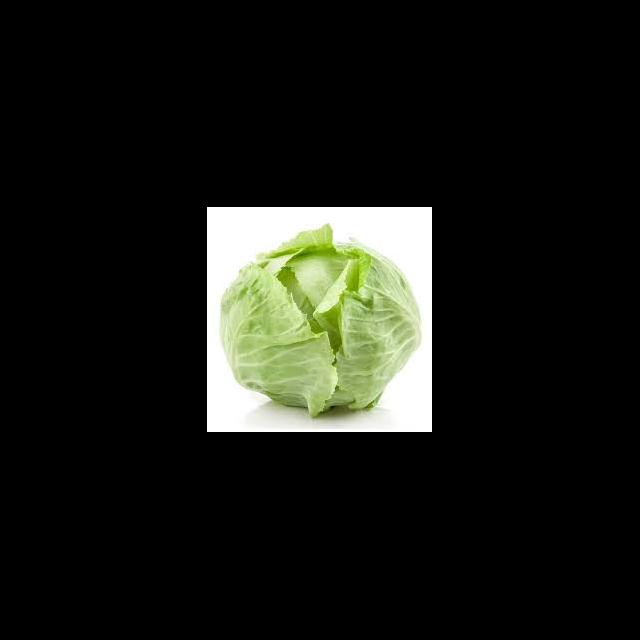cabbage: (212, 223, 426, 422)
